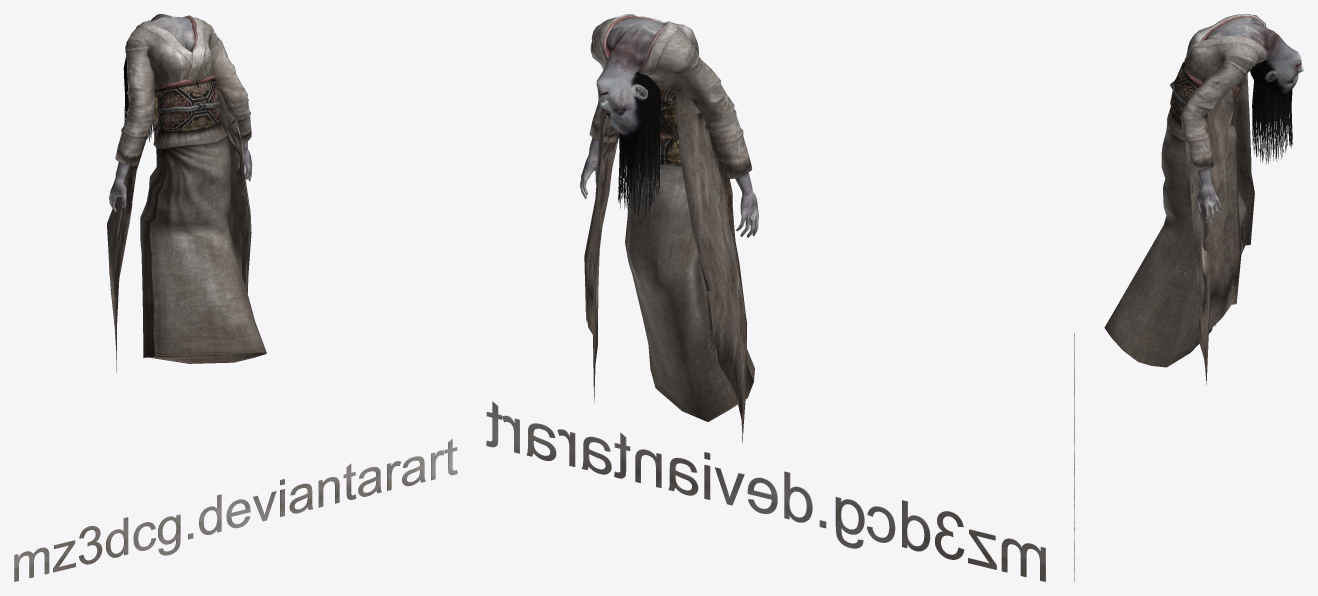
Rendered from broken-neck.obj.
3 renders of one model, left to right at view 1: azimuth 30°, elevation 25°; view 2: azimuth 150°, elevation 25°; view 3: azimuth 270°, elevation 25°, orthographic. The views are drawn at different scales.
Parts seen in each view (by area): view 1: bn_cloth, mz3dcg_deviantart, bn_body; view 2: mz3dcg_deviantart, bn_cloth, bn_body, bn_hair; view 3: bn_cloth, mz3dcg_deviantart, bn_body, bn_hair.
Boxes of the visible parts, x1=… form: bn_cloth: x1=125, y1=15, x2=266, y2=363; mz3dcg_deviantart: x1=14, y1=33, x2=457, y2=581; bn_body: x1=109, y1=14, x2=252, y2=212; mz3dcg_deviantart: x1=486, y1=42, x2=1045, y2=581; bn_cloth: x1=591, y1=14, x2=754, y2=421; bn_body: x1=580, y1=18, x2=758, y2=237; bn_hair: x1=618, y1=92, x2=660, y2=215; bn_cloth: x1=1104, y1=14, x2=1268, y2=367; mz3dcg_deviantart: x1=1074, y1=60, x2=1254, y2=581; bn_body: x1=1196, y1=17, x2=1303, y2=222; bn_hair: x1=1251, y1=75, x2=1292, y2=164.
Size of the model in its own units: 3.52 by 3.46 by 1.54.
